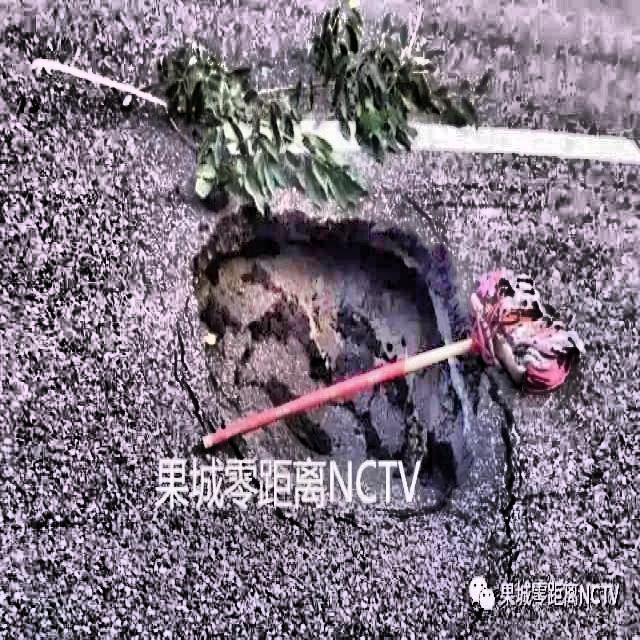buraco: (178, 200, 499, 540)
